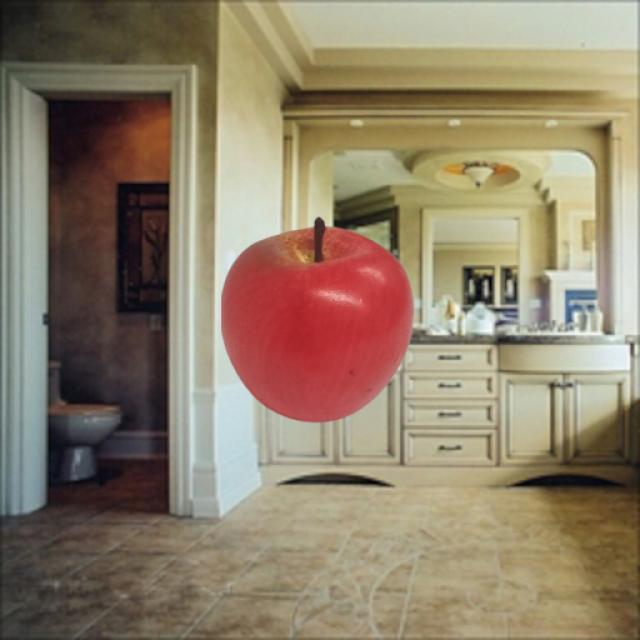apple: (220, 216, 412, 421)
